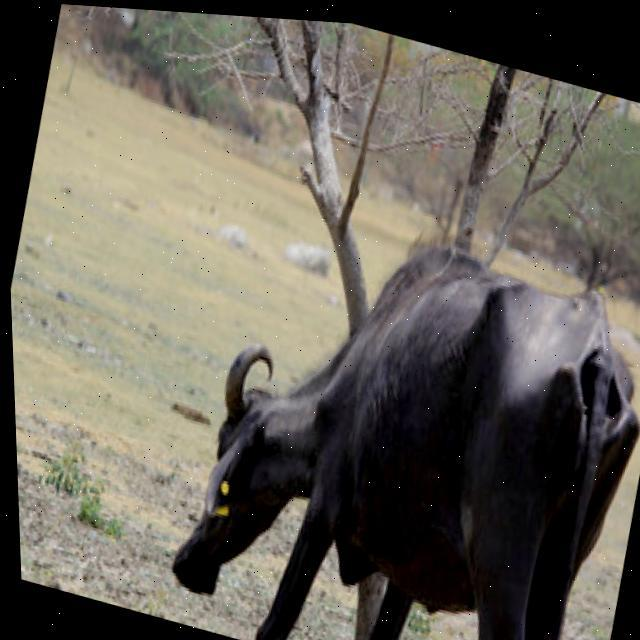Buffalo: (142, 171, 640, 640)
